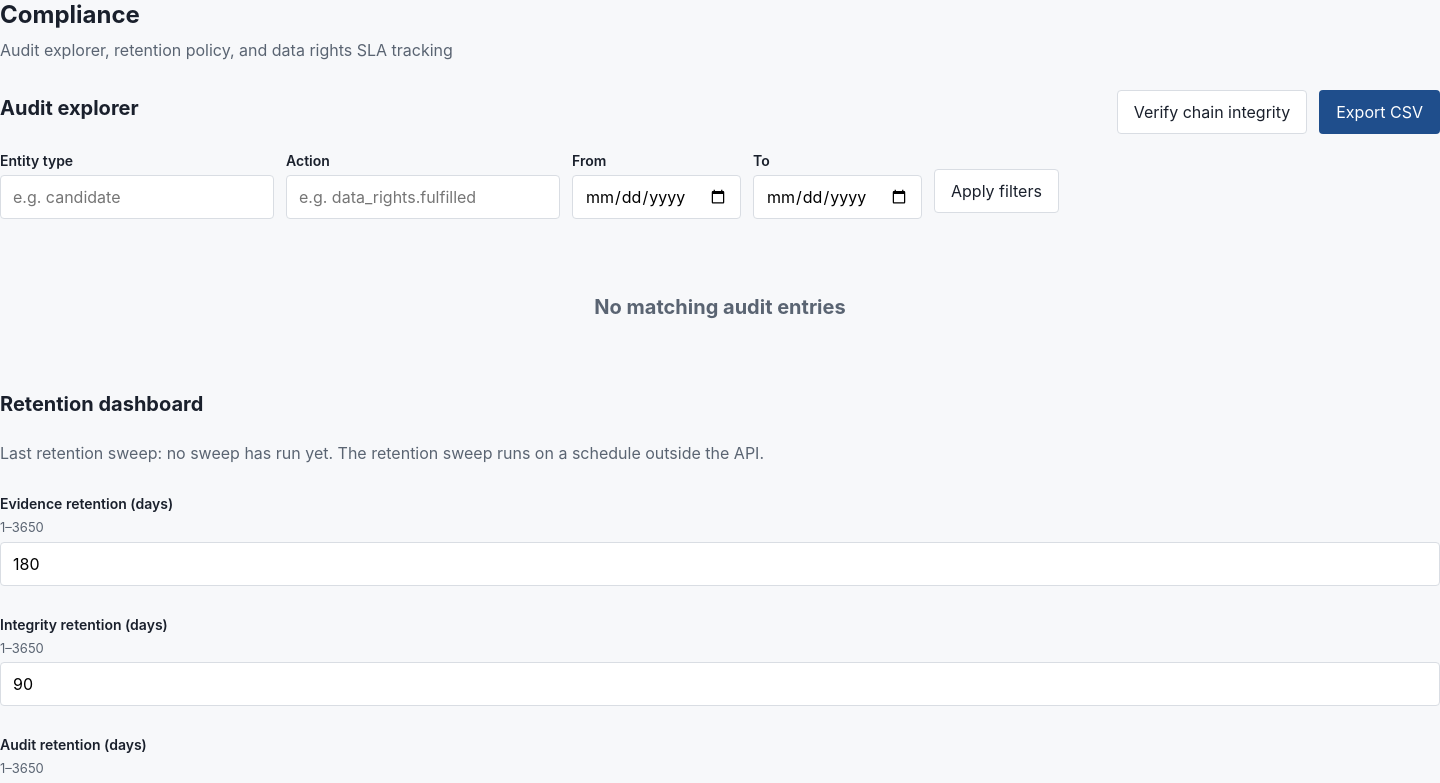
CompliancePage › rejects a zero or negative retention value client-side (no PUT request sent)
Replace the text in the number field labelled "Evidence retention (days)" with "0" at (720, 564), box [0,542,1439,586]
(page scrolled)
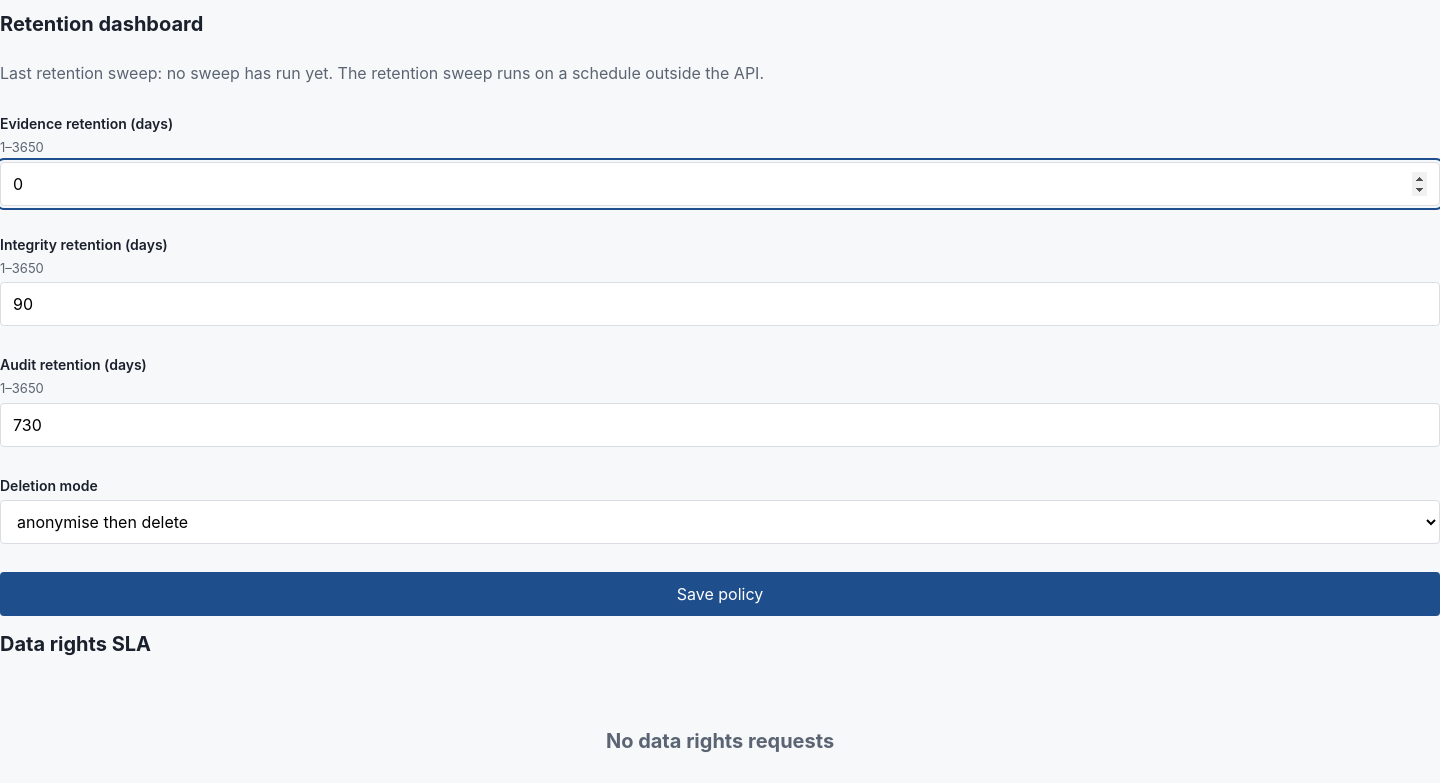
Click the button "Save policy" at (720, 594), box [0,572,1439,616]
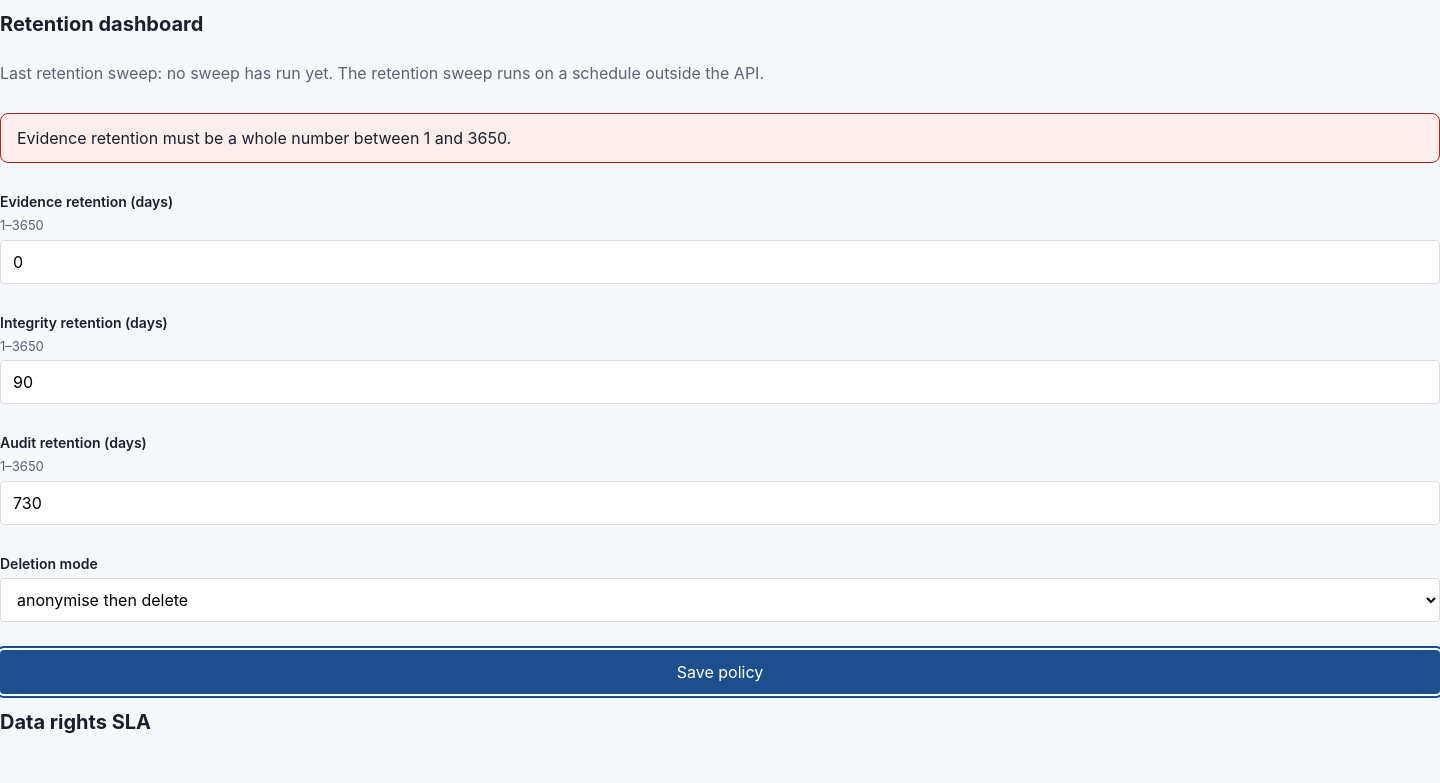
expect the text "Evidence retention must be a whole number between 1 and 3650." is shown: met, box [0,113,1439,163]
